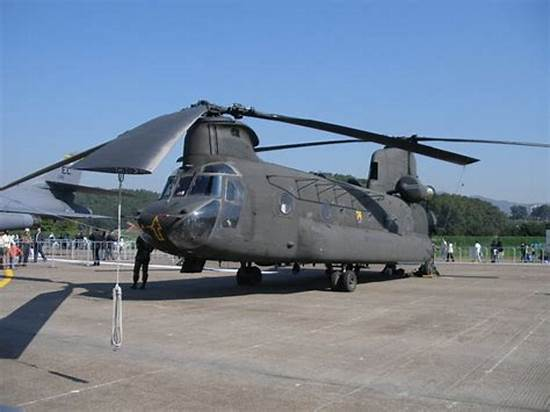Aeronef_militaire: (1, 86, 550, 319)
